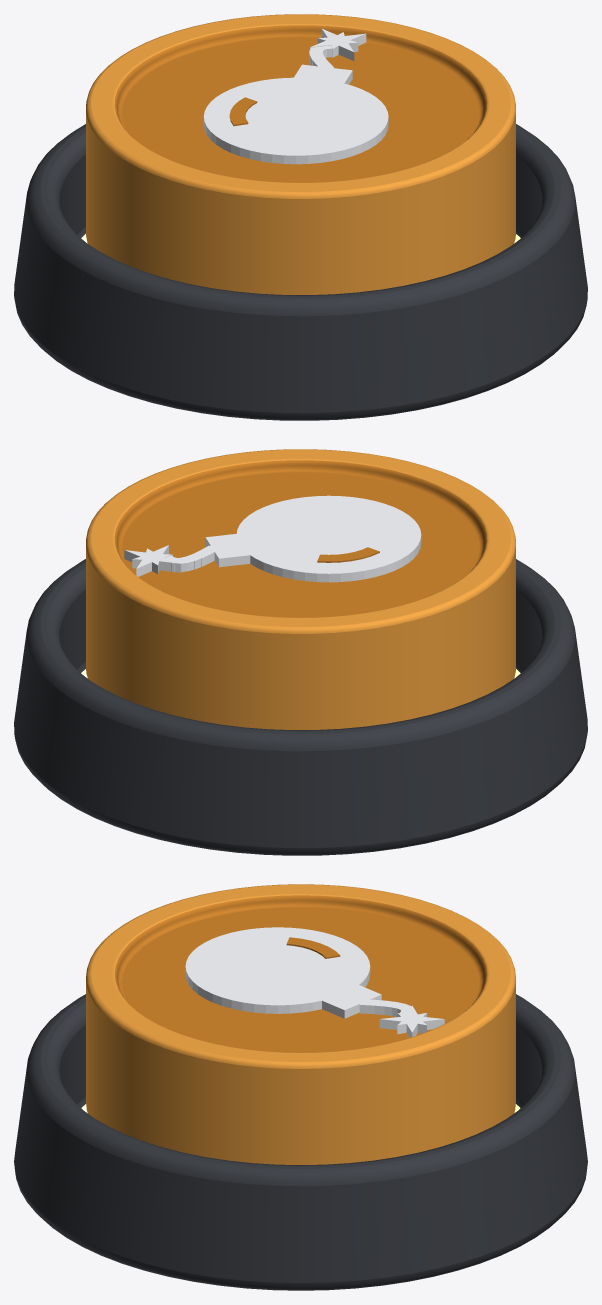
The model's file is BombButton.fbx.
3 views of the same model, one above another, from view 1: azimuth 30°, elevation 25°; view 2: azimuth 150°, elevation 25°; view 3: azimuth 270°, elevation 25° (orthographic).
Visible parts, largest first — view 1: BombButton_Cap, BombButton_Base; view 2: BombButton_Cap, BombButton_Base; view 3: BombButton_Cap, BombButton_Base.
Part boxes in pixels (left/top/right/bottom): BombButton_Cap: left=86, top=14, right=515, bottom=294; BombButton_Base: left=14, top=124, right=587, bottom=420; BombButton_Cap: left=86, top=449, right=515, bottom=729; BombButton_Base: left=14, top=559, right=587, bottom=855; BombButton_Cap: left=86, top=884, right=515, bottom=1164; BombButton_Base: left=14, top=994, right=587, bottom=1290.
Bounding box in the file's own units: 0.0547 × 0.0211 × 0.0547.
